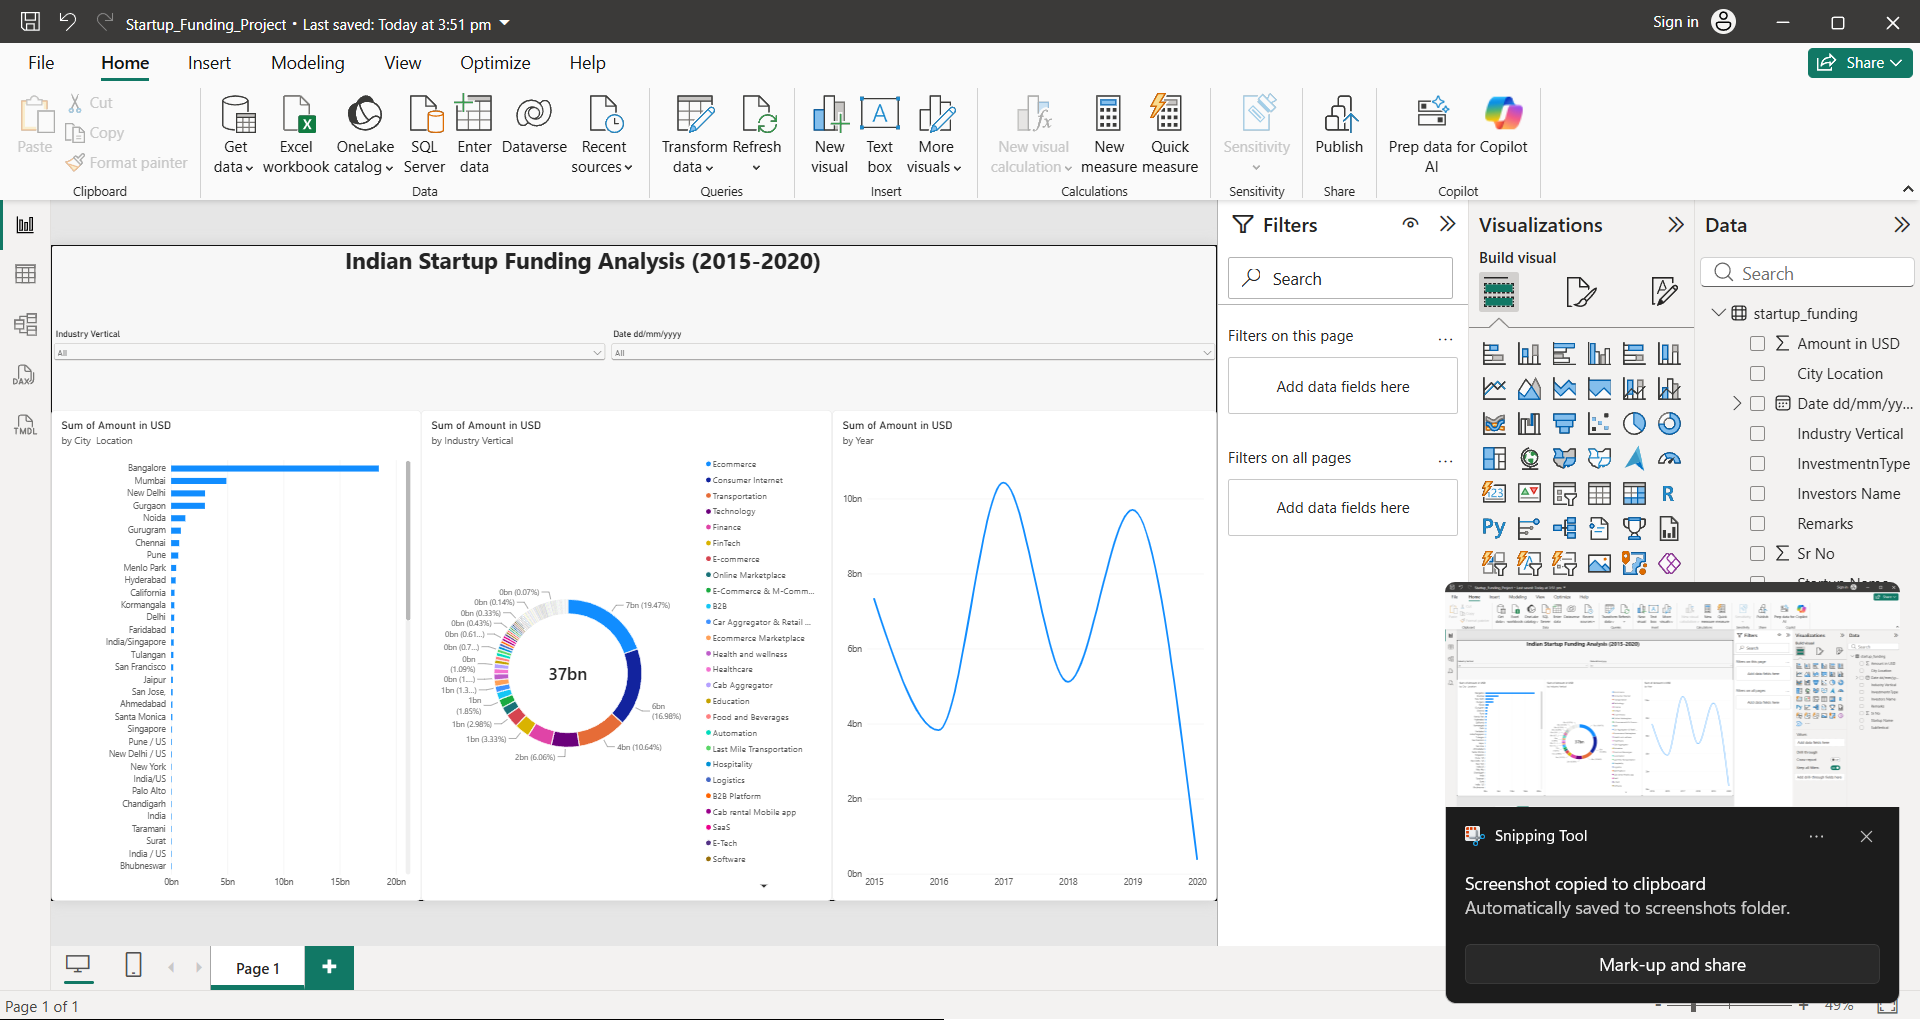

The page's visual inventory and layout, read from the dashboard file:
{"tool":"powerbi","page":{"name":"Page 1","canvas":[1920,1080],"ordinal":0},"visuals":[{"type":"barChart","fields":{"Category":["startup_funding.City  Location"],"Y":["Sum(startup_funding.Amount in USD)"]},"box":[0,271.7,609.3,808.9],"z":0},{"type":"donutChart","fields":{"Category":["startup_funding.Industry Vertical"],"Y":["Sum(startup_funding.Amount in USD)"]},"box":[609.3,271.7,677.2,808.9],"z":1},{"type":"lineChart","fields":{"Category":["startup_funding.Date dd/mm/yyyy.Variation.Date Hierarchy.Year","startup_funding.Date dd/mm/yyyy.Variation.Date Hierarchy.Quarter","startup_funding.Date dd/mm/yyyy.Variation.Date Hierarchy.Month","startup_funding.Date dd/mm/yyyy.Variation.Date Hierarchy.Day"],"Y":["Sum(startup_funding.Amount in USD)"]},"box":[1286.5,271.7,634,808.9],"z":2},{"type":"textbox","box":[400,100,170,231],"z":3},{"type":"textbox","box":[1195,0,615,482],"z":4},{"type":"textbox","box":[100,100,300,300],"z":6},{"type":"textbox","box":[100,100,300,300],"z":7},{"type":"textbox","box":[100,100,300,300],"z":8},{"type":"textbox","box":[100,100,300,300],"z":9},{"type":"textbox","box":[100,100,300,300],"z":10},{"type":"textbox","box":[100,100,300,300],"z":11},{"type":"textbox","box":[100,100,300,300],"z":12},{"type":"textbox","box":[0,0,1920.4,137.9],"z":13},{"type":"slicer","fields":{"Values":["startup_funding.Date dd/mm/yyyy"]},"box":[918,137.9,1004.5,102.9],"z":14},{"type":"slicer","fields":{"Values":["startup_funding.Industry Vertical"]},"box":[0,137.9,918,133.8],"z":15}]}

Visuals, with their boxes on the page's 1920x1080 design canvas (x1, y1, x2, y2). These are canvas units, not pixel positions in the 1920x1020 screenshot, which may show the page scaled, cropped or inside an application window:
barChart - startup_funding.City  Location x Sum(startup_funding.Amount in USD): <bbox>0, 272, 609, 1081</bbox>
donutChart - startup_funding.Industry Vertical x Sum(startup_funding.Amount in USD): <bbox>609, 272, 1286, 1081</bbox>
lineChart - startup_funding.Date dd/mm/yyyy.Variation.Date Hierarchy.Year x startup_funding.Date dd/mm/yyyy.Variation.Date Hierarchy.Quarter: <bbox>1286, 272, 1920, 1081</bbox>
textbox: <bbox>400, 100, 570, 331</bbox>
textbox: <bbox>1195, 0, 1810, 482</bbox>
textbox: <bbox>100, 100, 400, 400</bbox>
textbox: <bbox>100, 100, 400, 400</bbox>
textbox: <bbox>100, 100, 400, 400</bbox>
textbox: <bbox>100, 100, 400, 400</bbox>
textbox: <bbox>100, 100, 400, 400</bbox>
textbox: <bbox>100, 100, 400, 400</bbox>
textbox: <bbox>100, 100, 400, 400</bbox>
textbox: <bbox>0, 0, 1920, 138</bbox>
slicer - startup_funding.Date dd/mm/yyyy: <bbox>918, 138, 1922, 241</bbox>
slicer - startup_funding.Industry Vertical: <bbox>0, 138, 918, 272</bbox>
